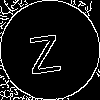Z: (25, 25, 62, 75)
